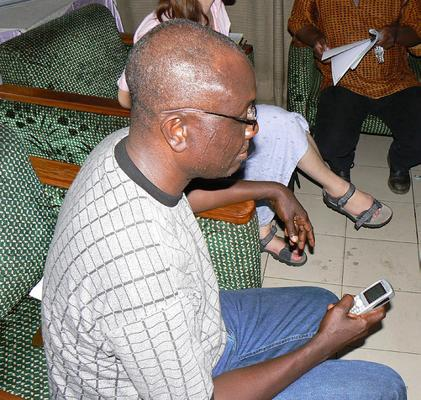person: (41, 19, 408, 398)
